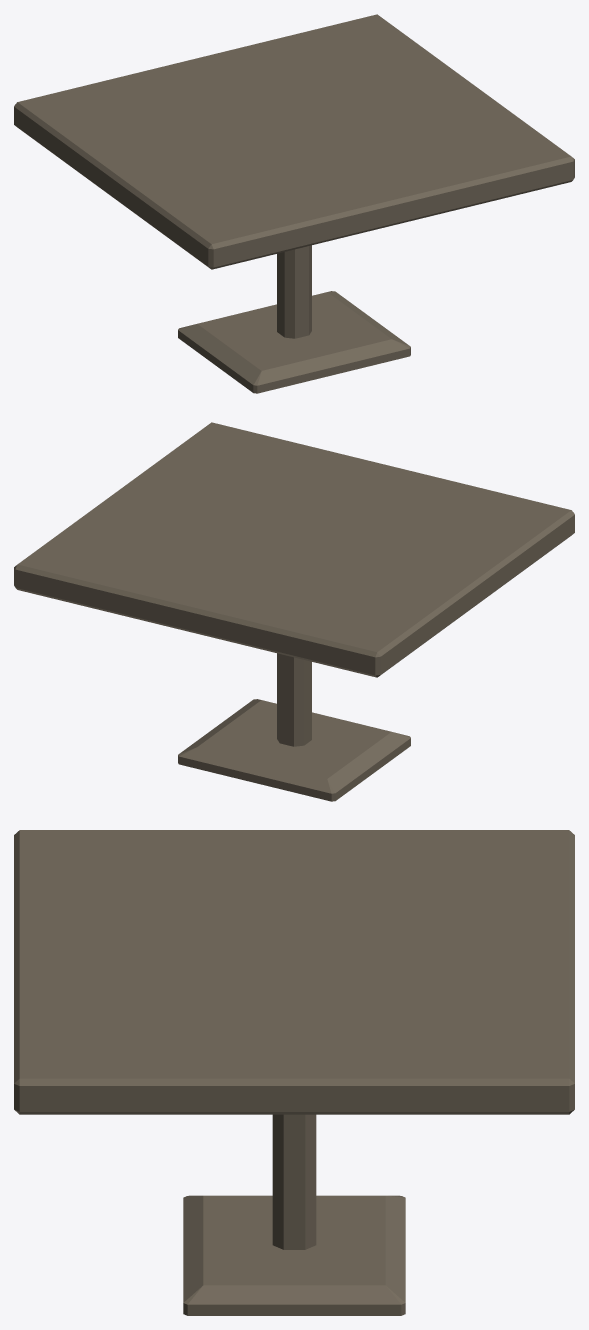
The model's file is table.fbx.
3 renders of one model, top to bottom at view 1: azimuth 30°, elevation 25°; view 2: azimuth 150°, elevation 25°; view 3: azimuth 270°, elevation 25°, orthographic. The views are drawn at different scales.
Visible parts, largest first — view 1: table; view 2: table; view 3: table.
Part boxes in pixels (left/top/right/bottom): table: left=14, top=14, right=574, bottom=393; table: left=14, top=422, right=574, bottom=801; table: left=14, top=830, right=574, bottom=1315.
Bounding box in the file's own units: 156 × 88.12 × 146.
